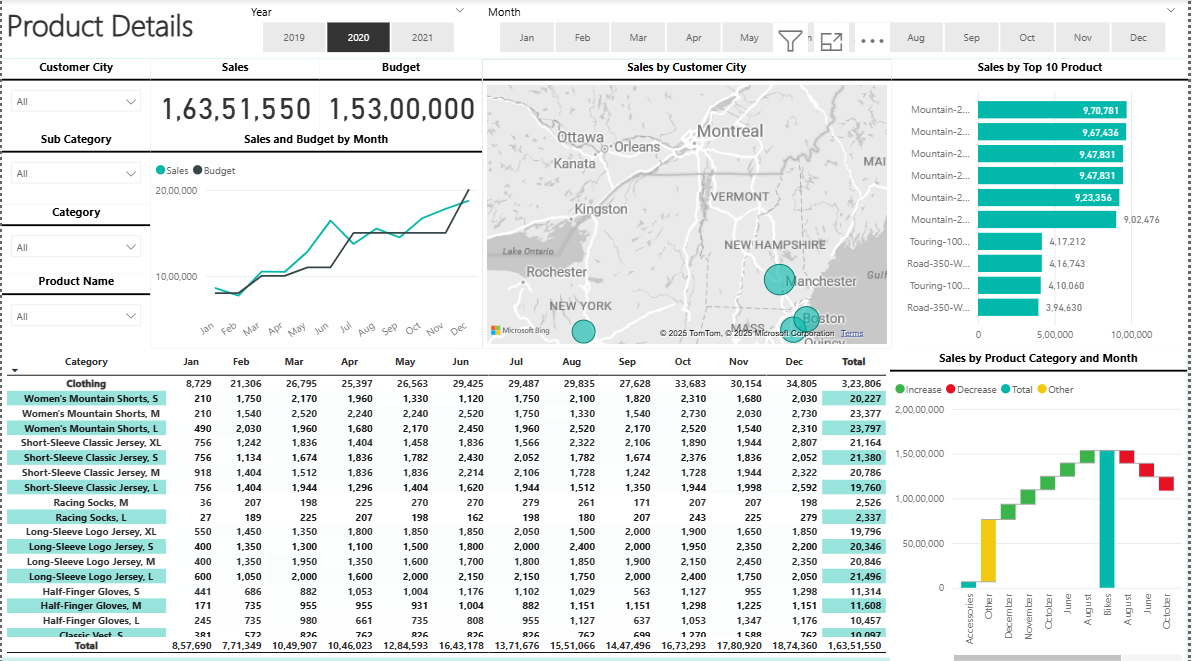

This screenshot's page, from the dashboard's own definition file:
{"tool":"powerbi","page":{"name":"Product Details","canvas":[1280,720],"ordinal":2},"visuals":[{"type":"textbox","box":[0,0,1280,64],"z":0},{"type":"slicer","fields":{"Values":["DIM_Calendar.Year"]},"box":[256,0,256,64],"z":1000},{"type":"slicer","fields":{"Values":["DIM_Calendar.MonthShort"]},"box":[512,0,768,64],"z":2000},{"type":"slicer","title":"Customer City","fields":{"Values":["DIM_Customers.Customer City"]},"box":[0,64.8,160.3,77.7],"z":3000},{"type":"slicer","title":"Category","fields":{"Values":["DIM_Products.Product Category"]},"box":[0,221.8,160.3,74.5],"z":4000},{"type":"slicer","title":"Product Name","fields":{"Values":["DIM_Products.Product Name"]},"box":[0,296.3,160.3,82.6],"z":5000},{"type":"slicer","title":"Sub Category","fields":{"Values":["DIM_Products.Sub Category"]},"box":[0,142.5,160.3,79.3],"z":6000},{"type":"lineChart","fields":{"Category":["DIM_Calendar.MonthShort"],"Y":["Analysis Metrics.Sales","Analysis Metrics.Budget"]},"box":[160.3,142.5,357.8,234.8],"z":7000},{"type":"card","title":"Sales","fields":{"Values":["Analysis Metrics.Sales"]},"box":[160.3,64.8,183,77.7],"z":8000},{"type":"map","fields":{"Category":["DIM_Customers.Customer City"],"Size":["Analysis Metrics.Sales"]},"box":[518.2,64.8,442,312.5],"z":9000},{"type":"card","title":"Budget","fields":{"Values":["Analysis Metrics.Budget"]},"box":[343.3,64.8,174.9,77.7],"z":10000},{"type":"pivotTable","fields":{"Rows":["DIM_Products.Product Category","DIM_Products.Product Name"],"Columns":["DIM_Calendar.MonthShort"],"Values":["Analysis Metrics.Sales"]},"box":[0,377.3,973.2,333.6],"z":11000},{"type":"clusteredBarChart","title":"Sales by Top 10 Product","fields":{"Category":["DIM_Products.Product Name"],"Y":["Analysis Metrics.Sales"]},"box":[960.2,64.8,320.6,314.1],"z":12000},{"type":"waterfallChart","fields":{"Category":["DIM_Products.Product Category"],"Breakdown":["DIM_Calendar.Month"],"Y":["Analysis Metrics.Sales"]},"box":[958.6,378.9,320.6,341.7],"z":13000}]}

Visuals, with their boxes in screenshot pixels (x1, y1, x2, y2), scaled from the page's 1280x720 canvas onto the 1192x661 screenshot:
textbox: [left=0, top=0, right=1191, bottom=59]
slicer - DIM_Calendar.Year: [left=238, top=0, right=477, bottom=59]
slicer - DIM_Calendar.MonthShort: [left=477, top=0, right=1191, bottom=59]
"Customer City" slicer: [left=0, top=59, right=149, bottom=131]
"Category" slicer: [left=0, top=204, right=149, bottom=272]
"Product Name" slicer: [left=0, top=272, right=149, bottom=348]
"Sub Category" slicer: [left=0, top=131, right=149, bottom=204]
lineChart - DIM_Calendar.MonthShort x Analysis Metrics.Sales: [left=149, top=131, right=482, bottom=346]
"Sales" card: [left=149, top=59, right=320, bottom=131]
map - DIM_Customers.Customer City x Analysis Metrics.Sales: [left=483, top=59, right=894, bottom=346]
"Budget" card: [left=320, top=59, right=483, bottom=131]
pivotTable - DIM_Products.Product Category x DIM_Products.Product Name: [left=0, top=346, right=906, bottom=653]
"Sales by Top 10 Product" clusteredBarChart: [left=894, top=59, right=1191, bottom=348]
waterfallChart - DIM_Products.Product Category x DIM_Calendar.Month: [left=893, top=348, right=1191, bottom=660]
